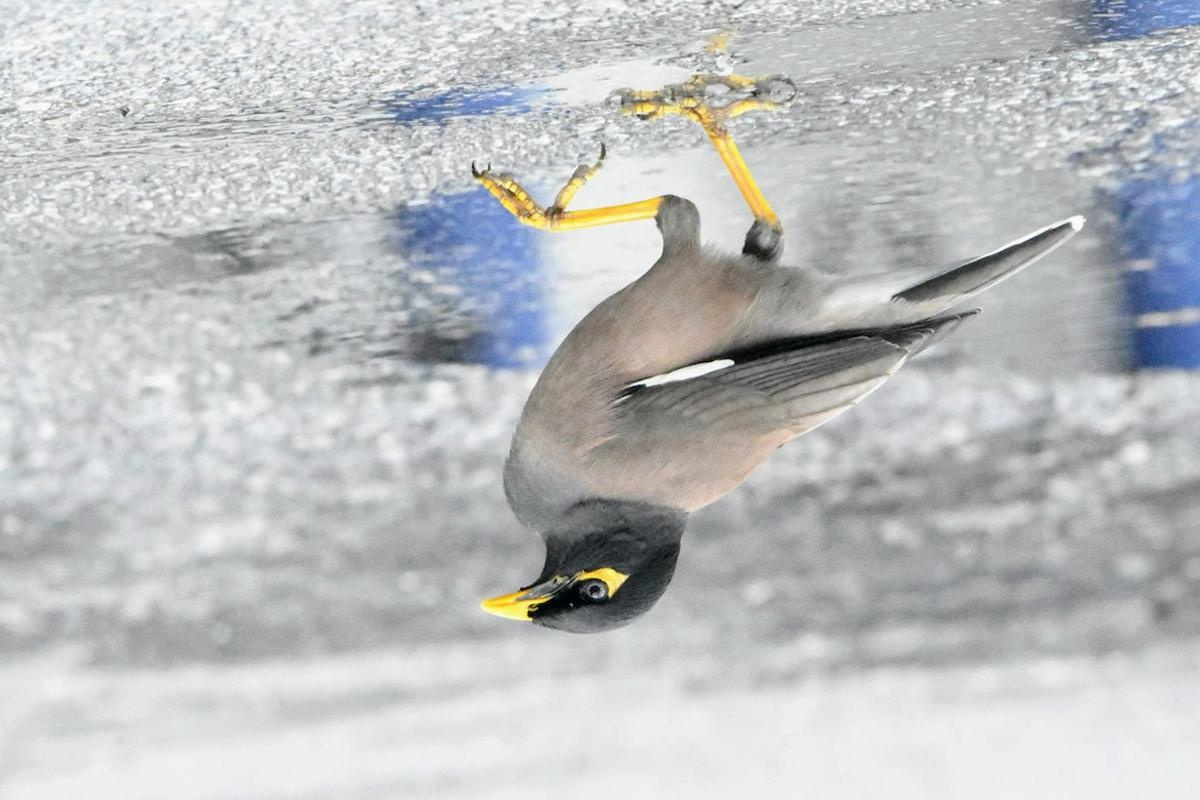myna: (469, 83, 981, 668)
